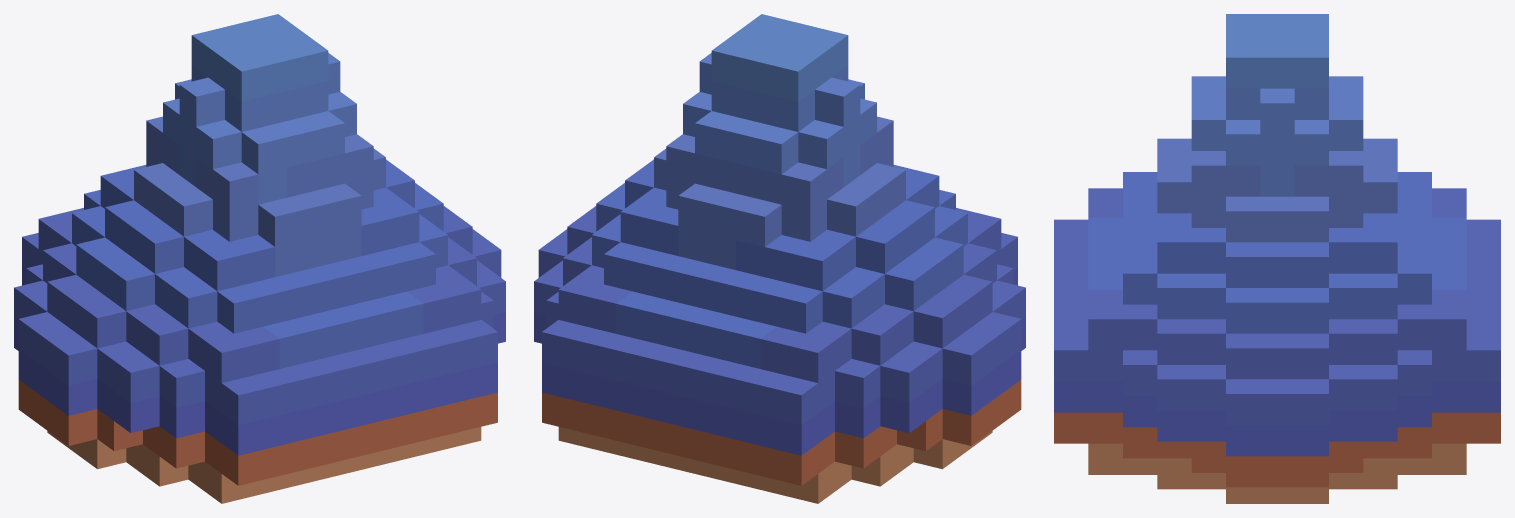
The model's file is tower-hexagon-roof.glb.
The picture shows the model from 3 angles, left to right: view 1: azimuth 30°, elevation 25°; view 2: azimuth 150°, elevation 25°; view 3: azimuth 270°, elevation 25°; orthographic projection. The views are drawn at different scales.
Parts seen in each view (by area): view 1: tower-hexagon-roof; view 2: tower-hexagon-roof; view 3: tower-hexagon-roof.
Boxes of the visible parts, x1,y1,x2,y2 form: tower-hexagon-roof: (14,14,505,503); tower-hexagon-roof: (534,14,1025,503); tower-hexagon-roof: (1054,14,1500,503).
Size of the model in its own units: 1.05 by 0.8364 by 0.9061.
Materials: 1 (1 with a texture image).
